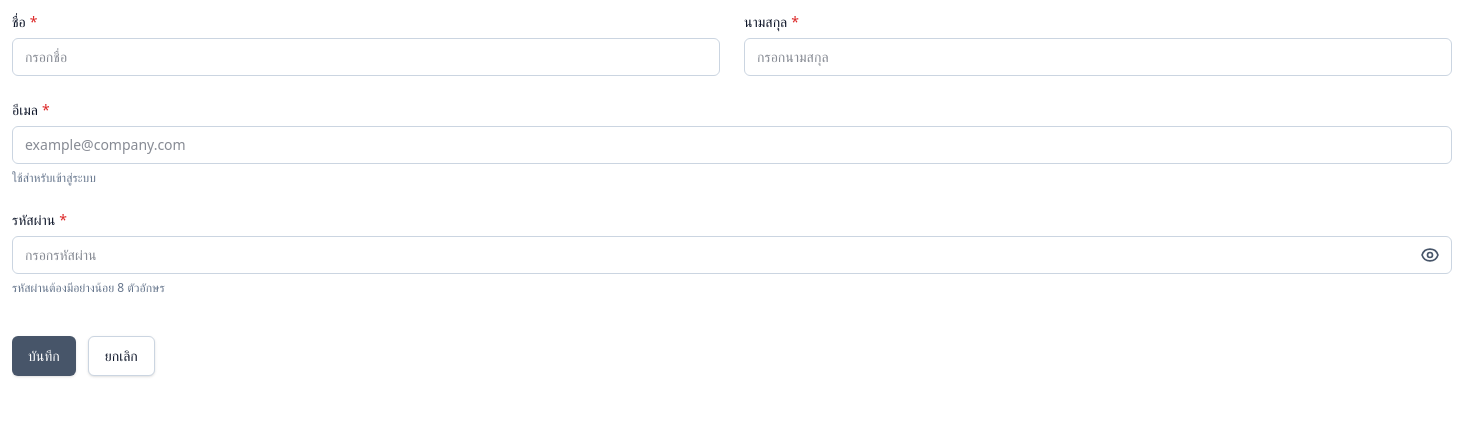
Test: UserForm Component › Create Mode › should show validation errors for empty required fields
The width and height of the screenshot is (1464, 422).
Click the button "บันทึก" at (44, 356), box [12,336,76,376]
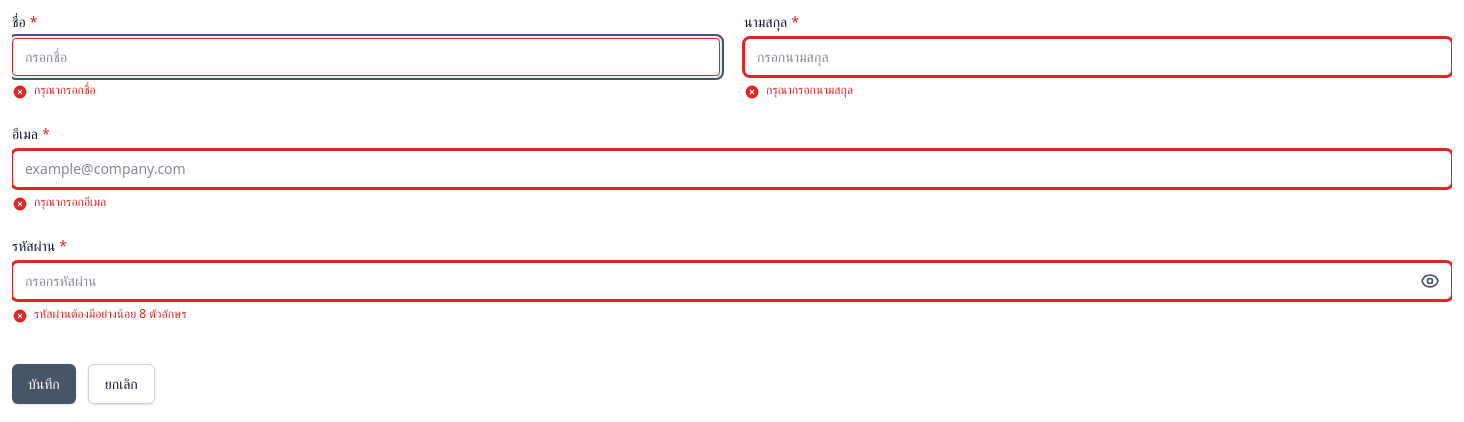
Now the text "กรุณากรอกชื่อ" is shown, box [34,82,96,98]
Now the text "กรุณากรอกนามสกุล" is shown, box [766,82,853,98]
Now the text "กรุณากรอกอีเมล" is shown, box [34,194,106,210]
